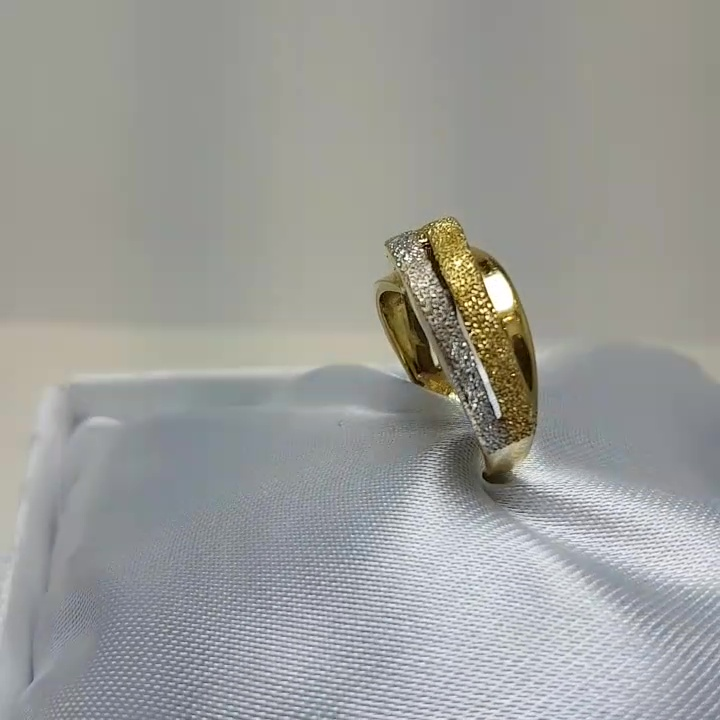Ring 5: (340, 208, 581, 498)
